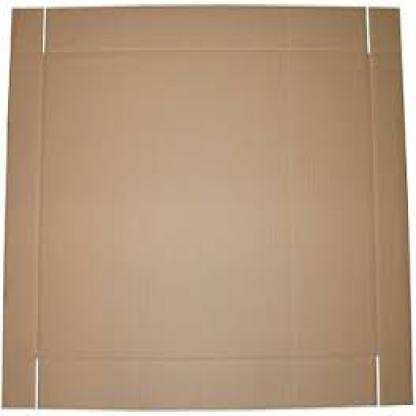CARDBOARD: (2, 4, 411, 403)
